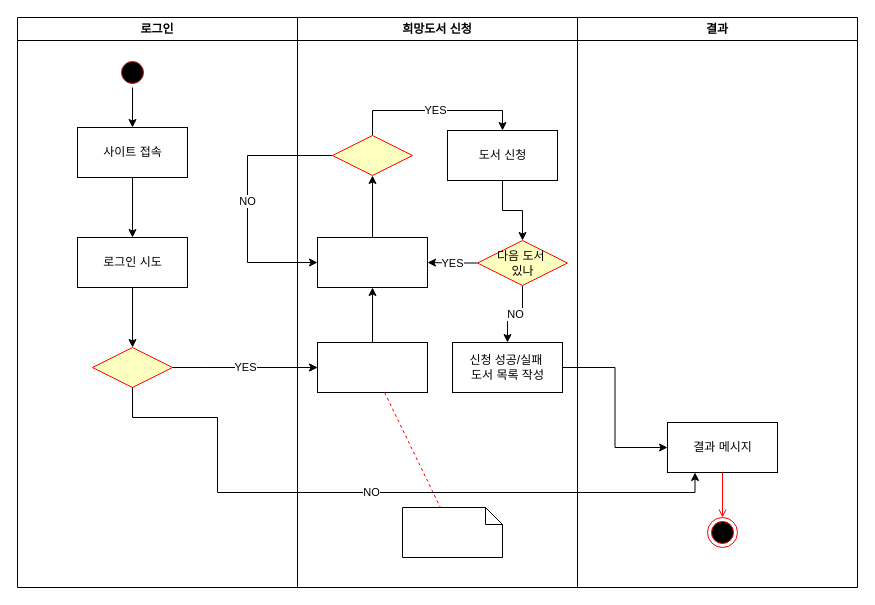
This 875x605 diagram has some shape labels left out. Each missing label, with the centre of its shape:
"TXT 파일에서 여러 ROW 로딩" goes at (x=452, y=532).
"도서 목록 불러오기" goes at (x=372, y=367).
"도서 선택 성공" goes at (x=372, y=155).
"로그인 성공" goes at (x=132, y=367).
"희망도서 신청 페이지 이동" goes at (x=372, y=262).
